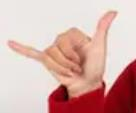clockwise: (4, 9, 120, 86)
